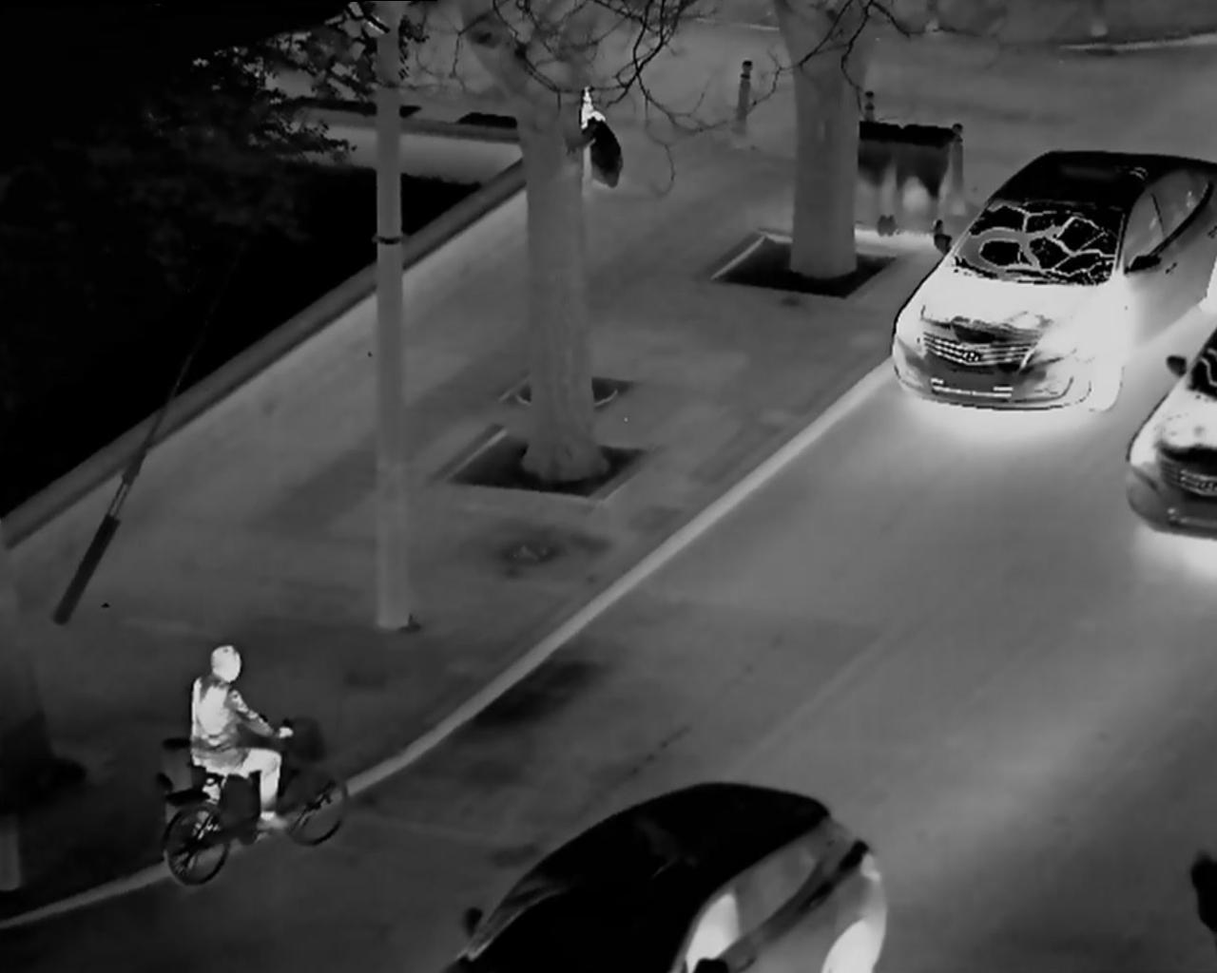person: (168, 629, 300, 857)
